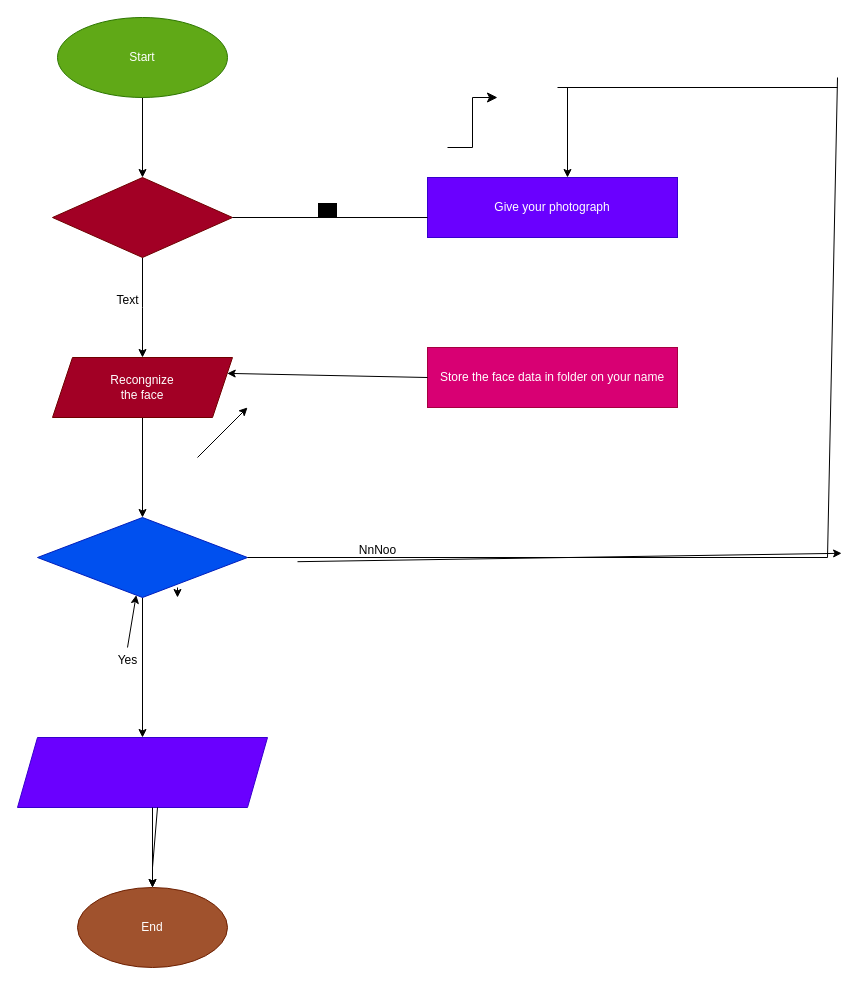
This 868x985 diagram has some shape labels left out. Here are the shapes that lost their labels. From the top down, the centre of each, then its label:
At (x=142, y=217): "New user?".
At (x=142, y=557): "Face recognized".
At (x=142, y=772): "Stored in csv file with Registration Number & Date Time of Entry".
